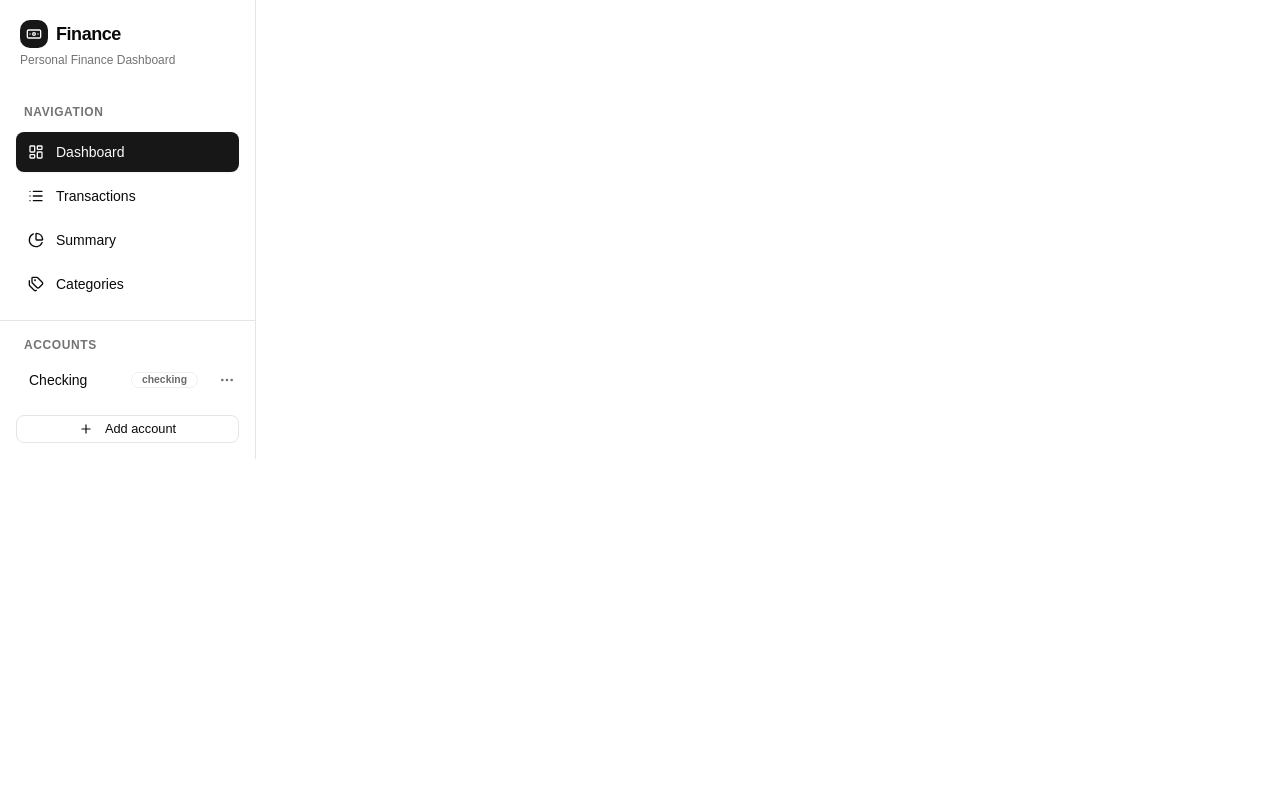
Test case: Sidebar › offers archive for an active account
Click the button named "Account actions for Checking" at (227, 380), box 215,368 -> 239,392
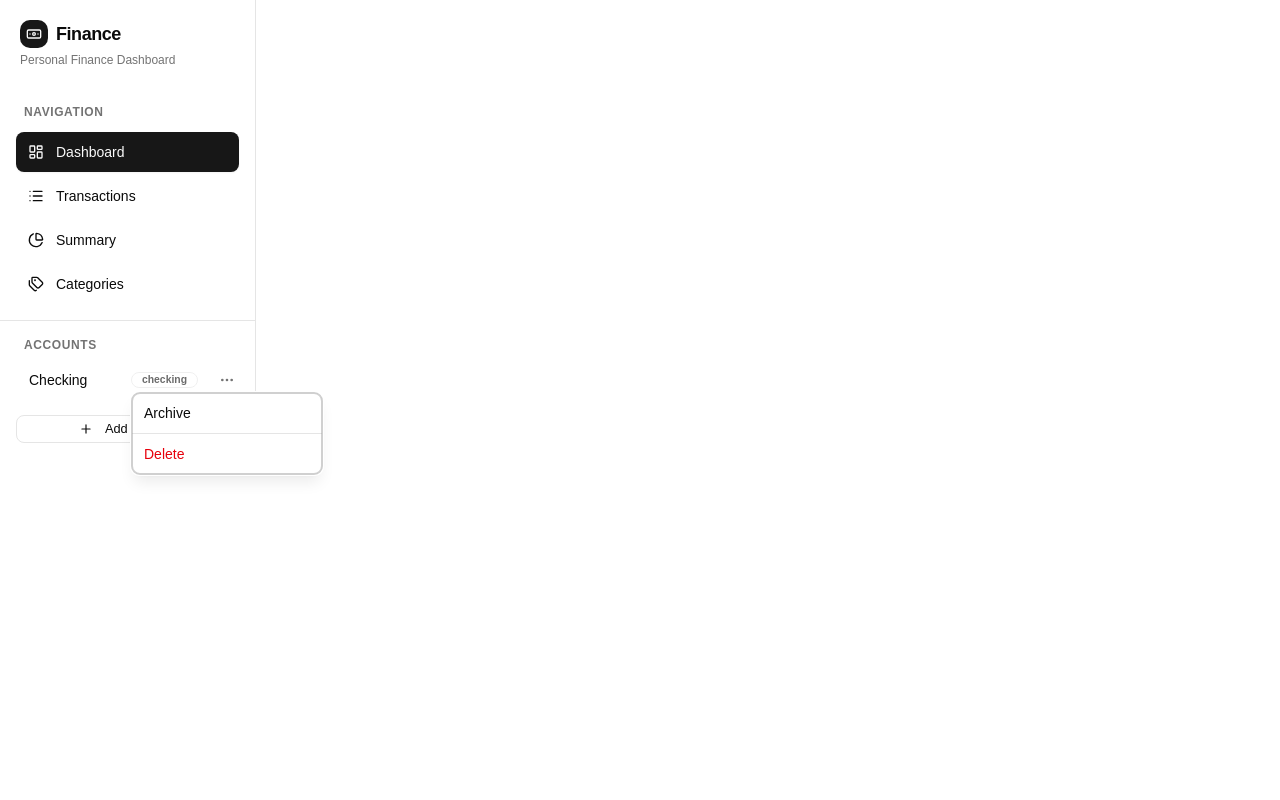
Click the menu item "Archive" at (167, 413), box 144,405 -> 191,421
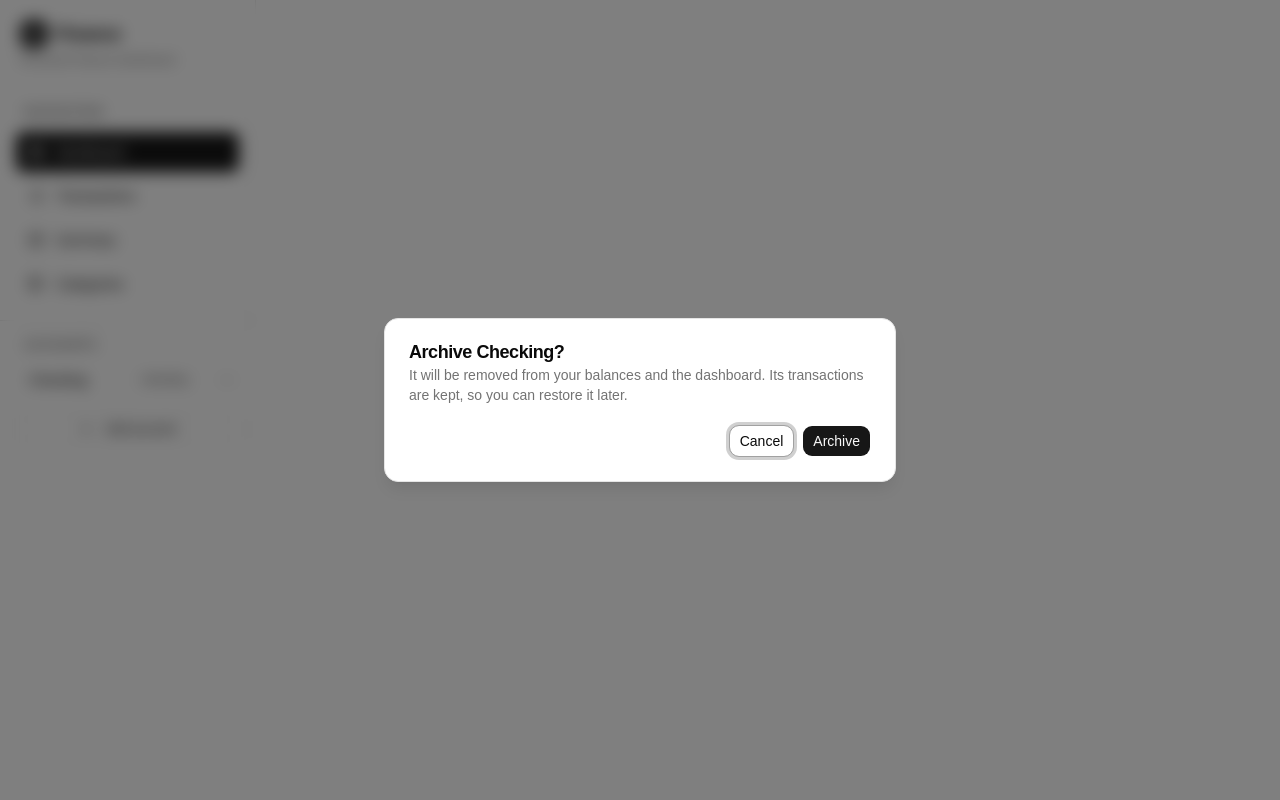
Expected: the heading "Archive Checking?" is shown, 409,342 -> 564,362
